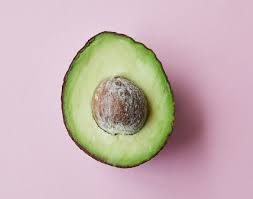avocado: (61, 31, 175, 169)
